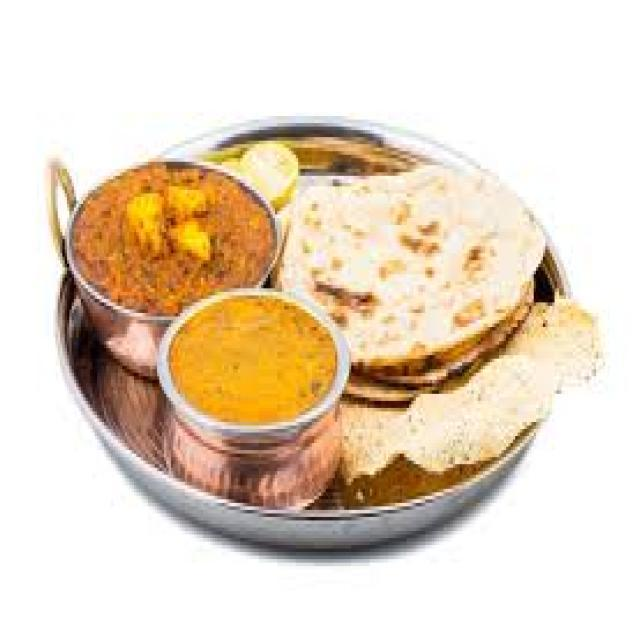dal: (168, 294, 341, 435)
roti: (304, 141, 537, 365)
veg: (66, 140, 287, 334)
